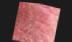plaque psoriasis: (11, 1, 60, 42)
